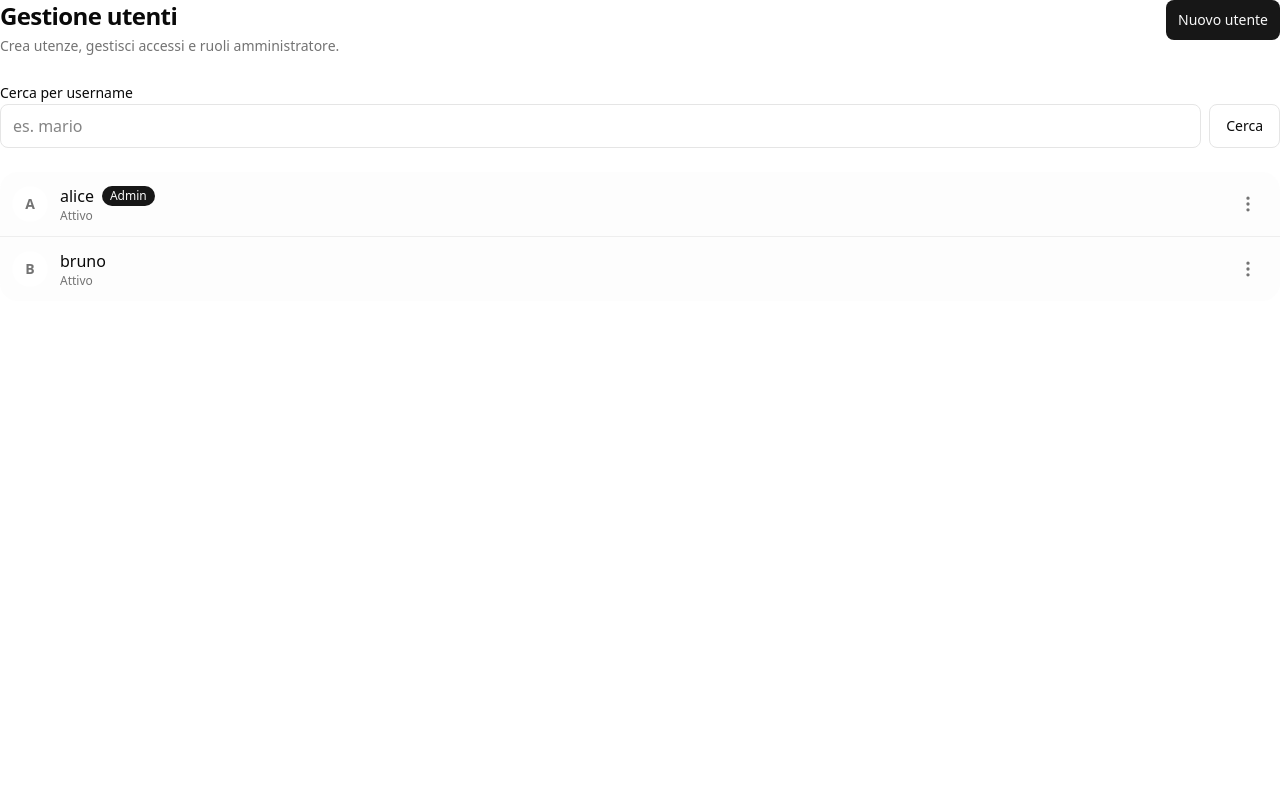
Test: UsersView › mostra un errore leggibile quando il server rifiuta la creazione
This screenshot has width=1280, height=800.
Click the button with id "open-create-user": {"x": 1223, "y": 20} [1166, 0, 1279, 40]
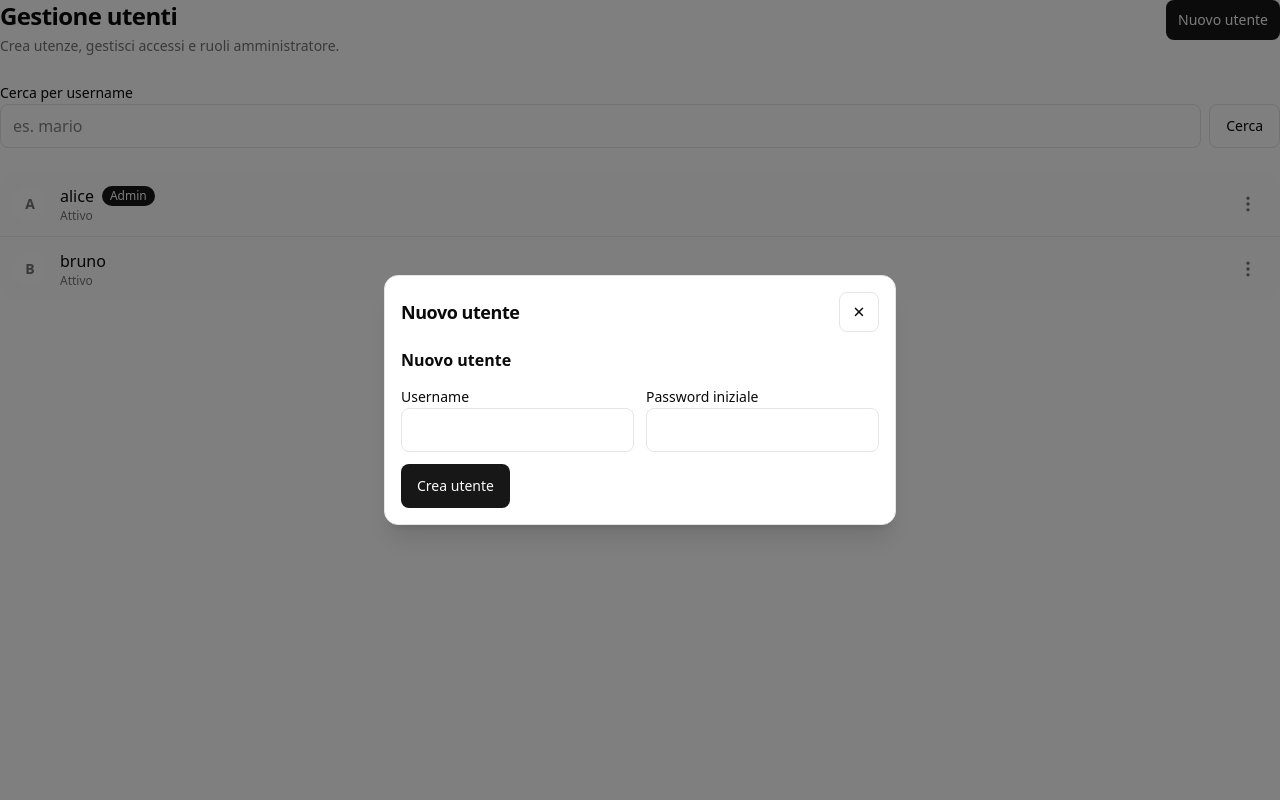
In the field with id "new-username": {"x": 518, "y": 430} [401, 408, 634, 452], type "carla"
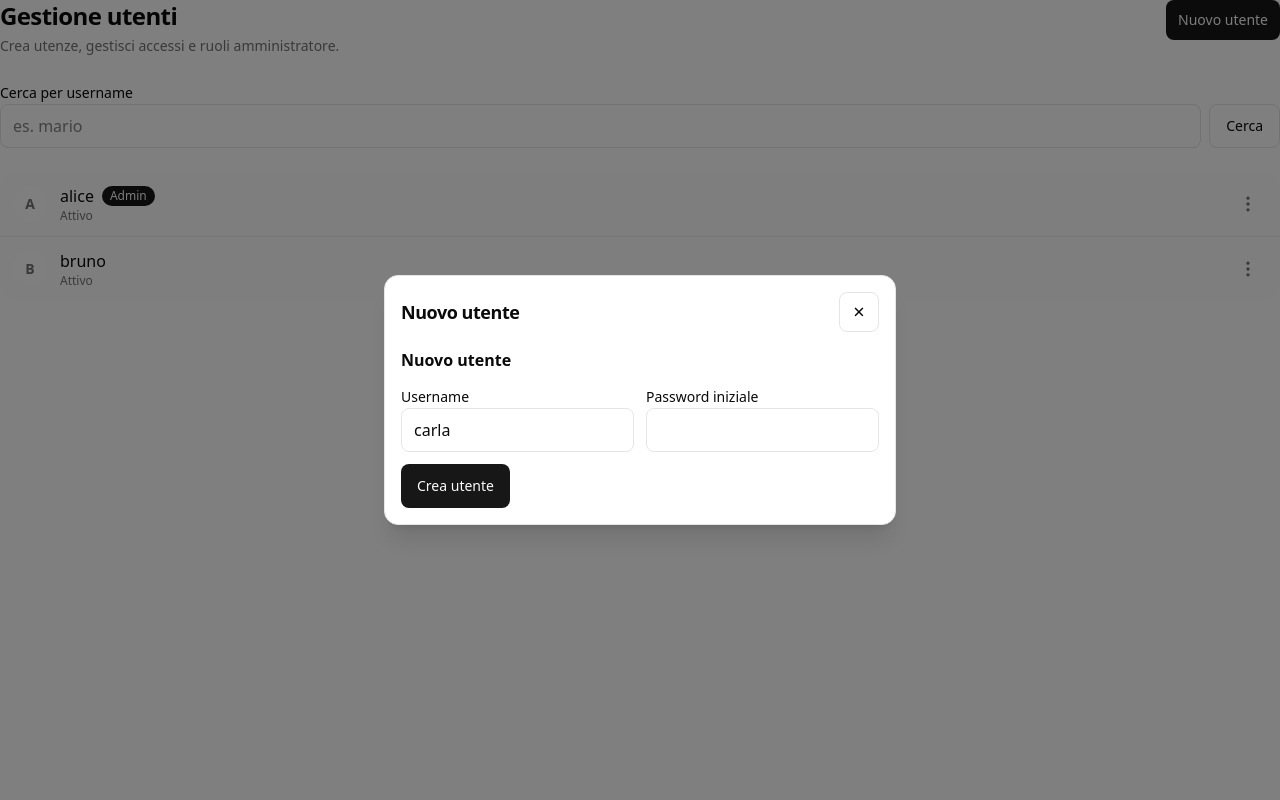
In the field with id "new-password": {"x": 762, "y": 430} [646, 408, 879, 452], type "password123"
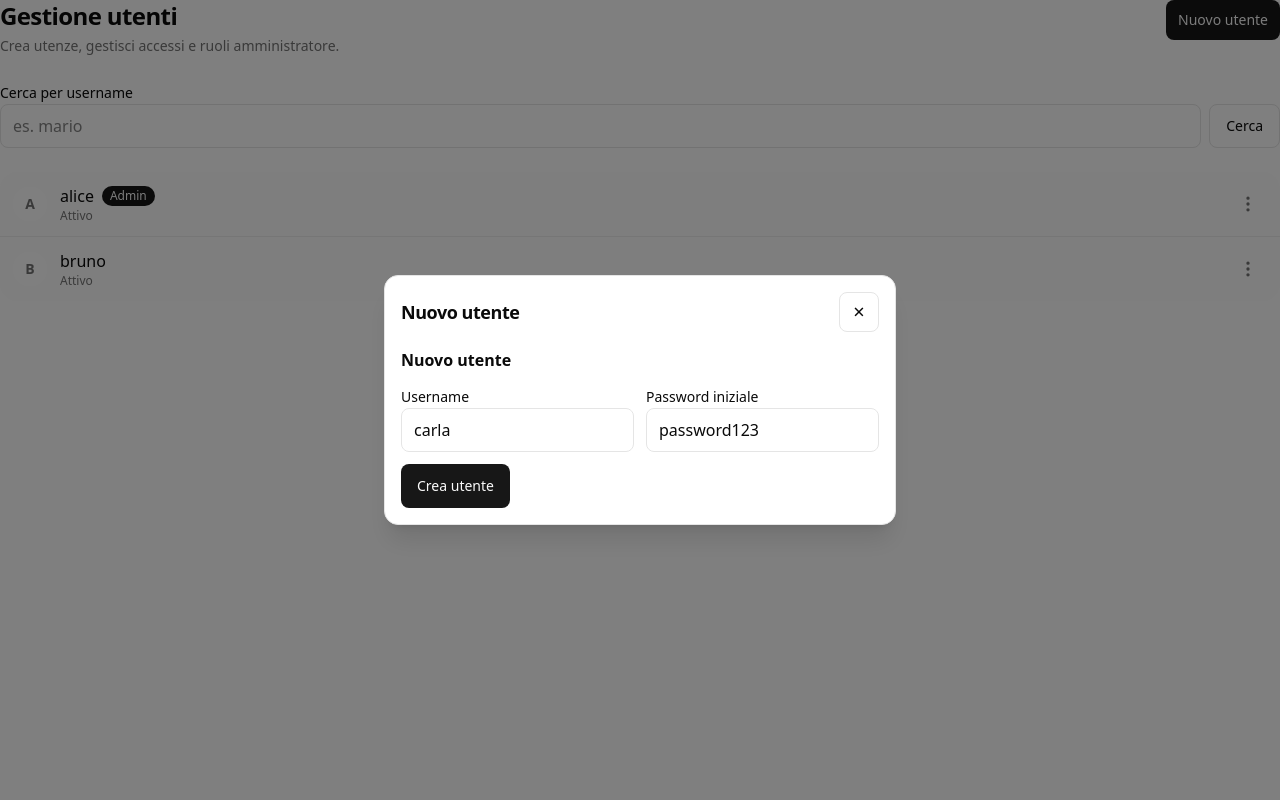
Submit the form with id "create-user-form", box [401, 348, 879, 508]
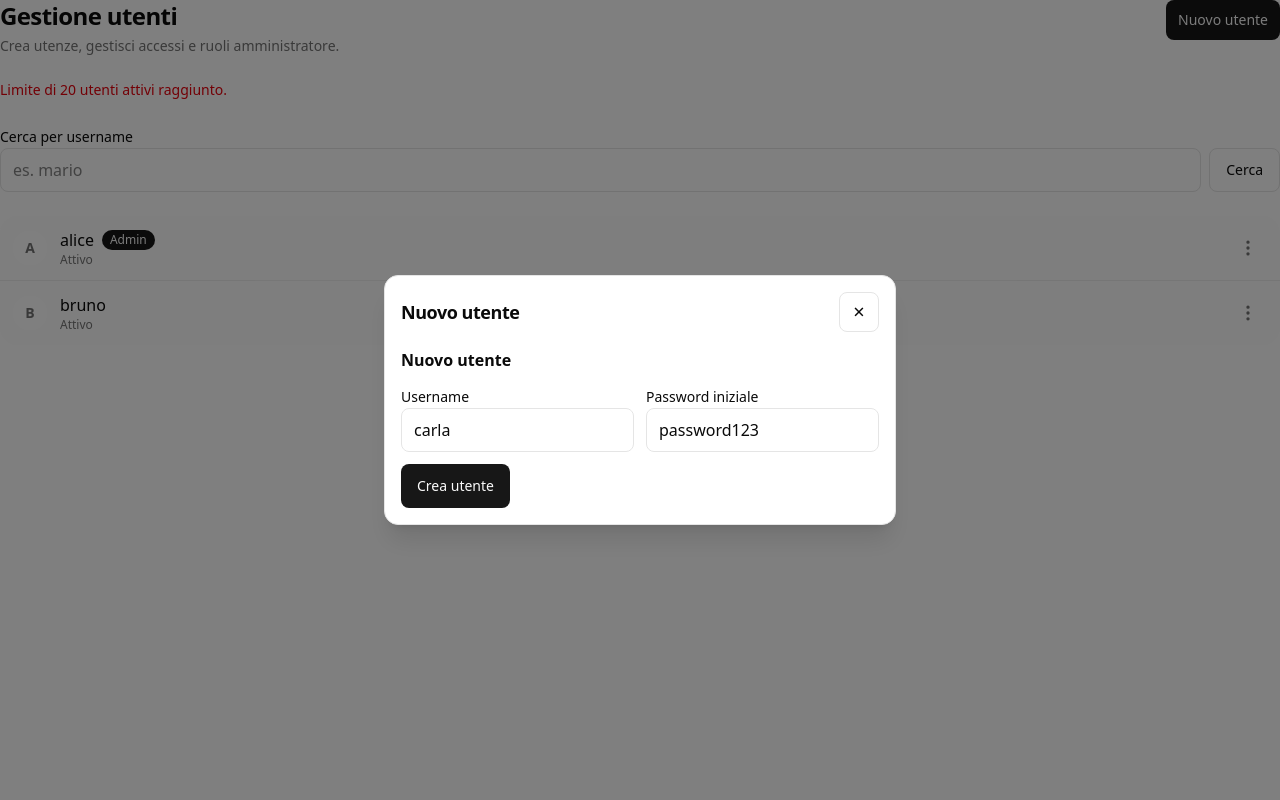
expect the form with id "create-user-form" is shown: met, box [401, 348, 879, 508]
expect the message "Limite di 20 utenti attivi raggiunto." is shown: met, box [0, 80, 227, 99]
